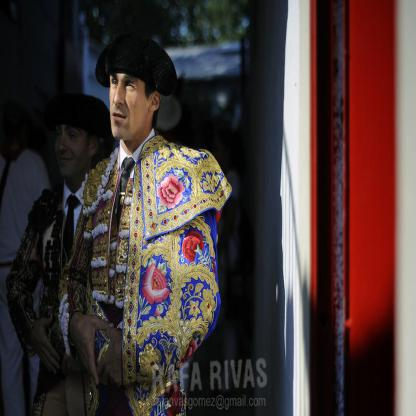face: (110, 64, 149, 142), (55, 119, 89, 177)
